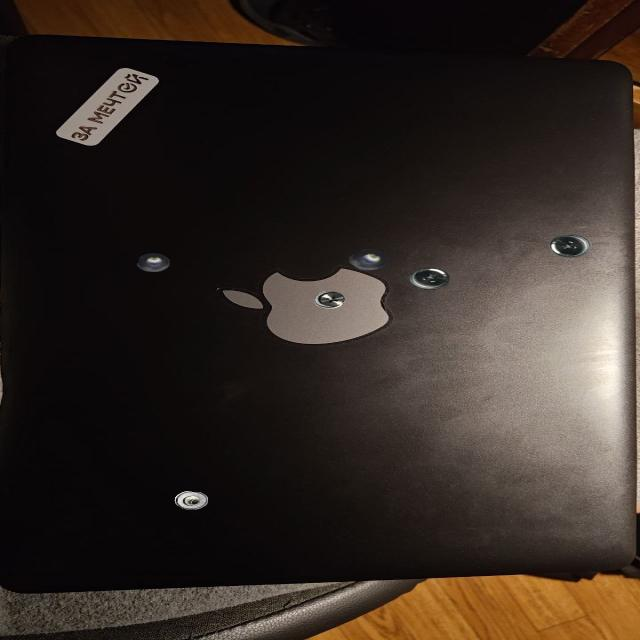lock: (548, 234, 591, 258), (409, 267, 450, 290), (313, 290, 345, 308)
missing_screw: (348, 248, 388, 270), (174, 490, 208, 510), (136, 253, 170, 272)
